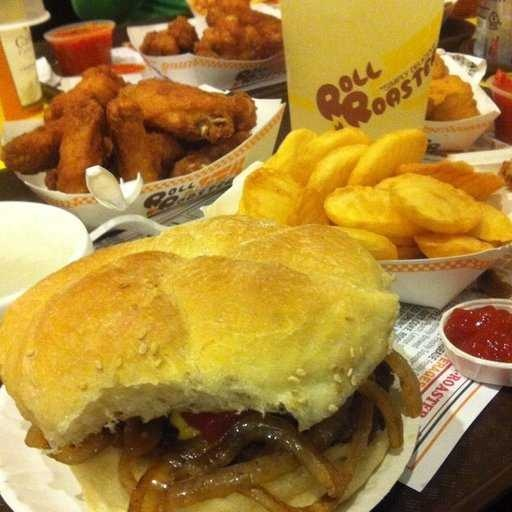hamburger: (1, 212, 431, 506)
